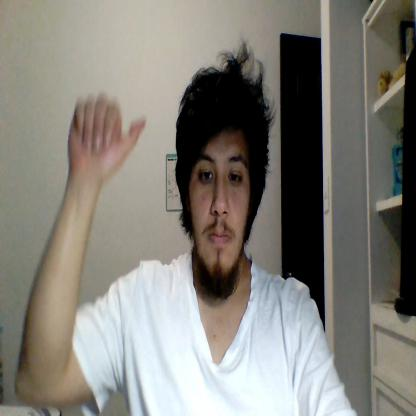A: (68, 93, 148, 177)
